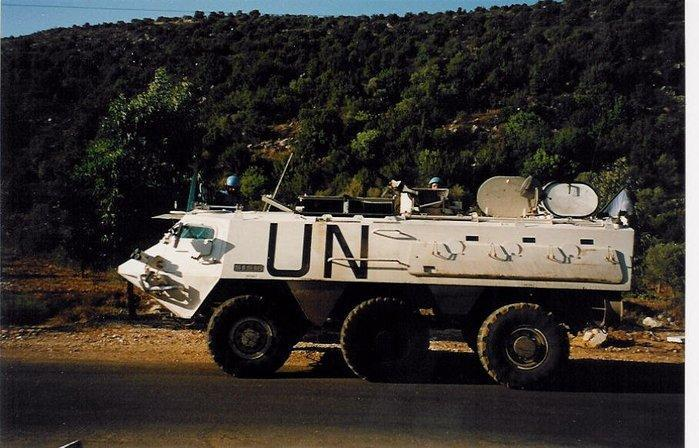MIL_IFV: (111, 172, 640, 389)
